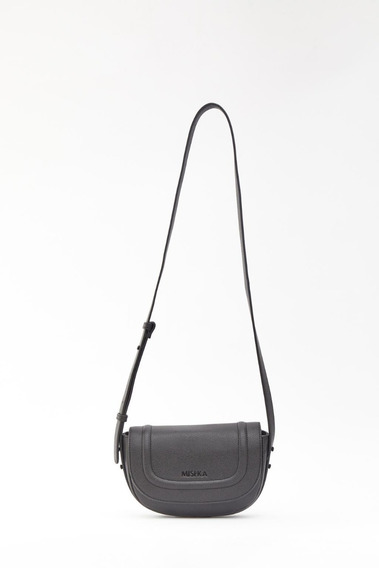cartera: (116, 100, 277, 516)
